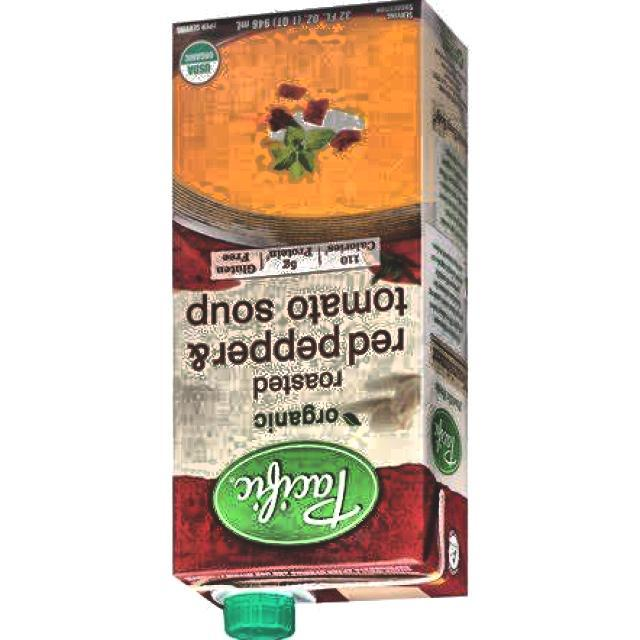cardboard: (170, 0, 470, 620)
